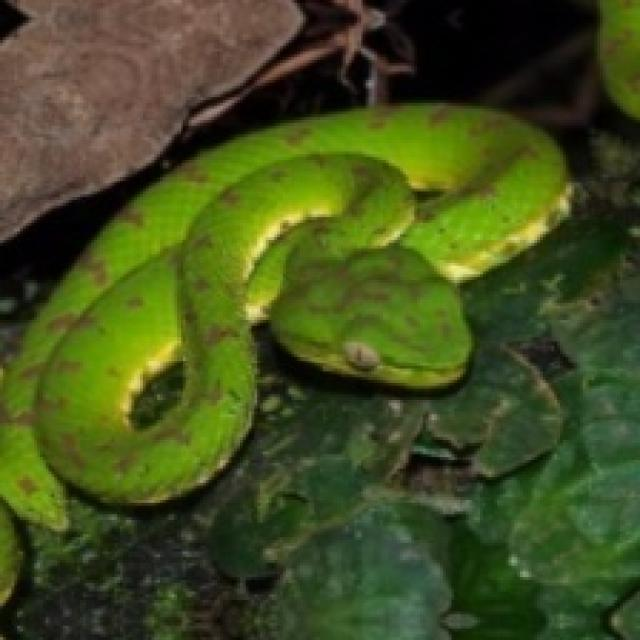philippine pitviper: (0, 103, 569, 526)
